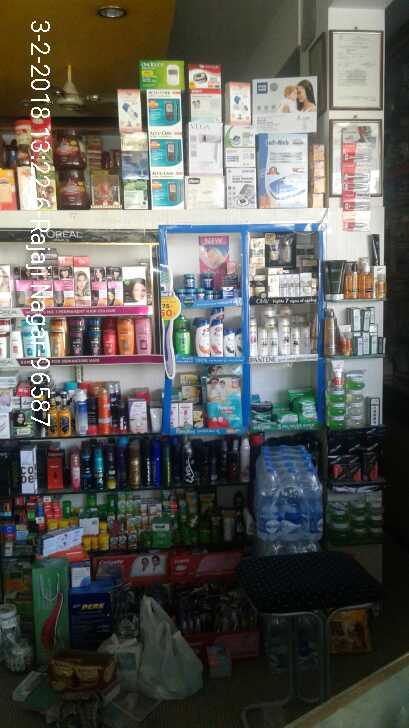beauty: (193, 317, 210, 354), (223, 323, 242, 355), (292, 323, 311, 355), (207, 320, 223, 356), (277, 317, 291, 353), (265, 325, 278, 354), (259, 320, 267, 358)
pharmacy: (198, 375, 243, 427), (177, 285, 215, 302), (296, 398, 318, 426), (182, 271, 196, 289), (220, 284, 235, 296), (203, 271, 212, 286)
